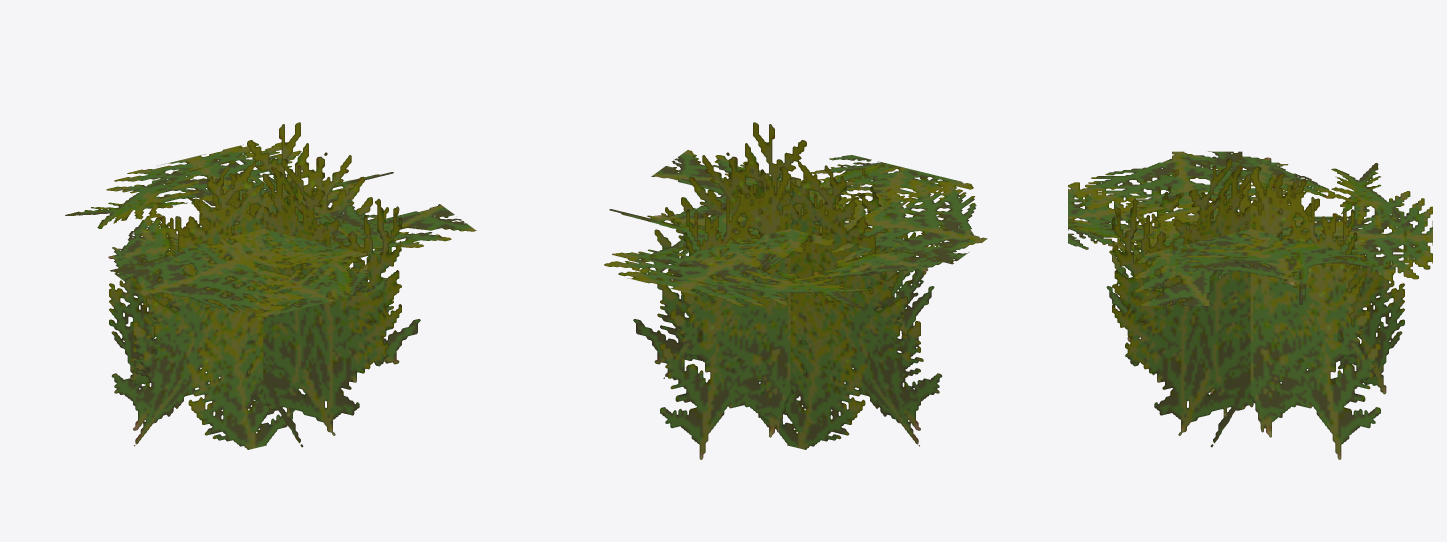
Rendered from bush_01_far.glb.
3 renders of one model, left to right at view 1: azimuth 30°, elevation 25°; view 2: azimuth 150°, elevation 25°; view 3: azimuth 270°, elevation 25°, orthographic.
Visible parts, largest first — view 1: env; view 2: env; view 3: env.
Boxes of the visible parts, x1,y1,x2,y2 form: env: (65,122,476,449); env: (604,122,987,459); env: (1068,151,1432,459).
Size of the model in its own units: 1.15 by 1.15 by 1.09.
Materials: 1 (1 with a texture image).
